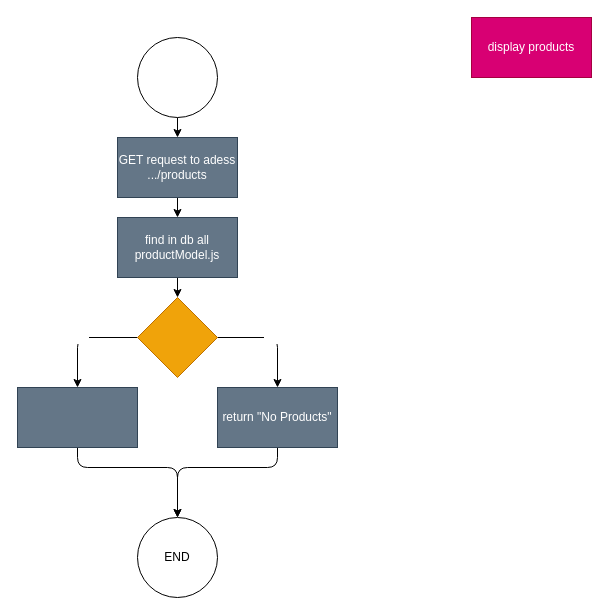
The diagram is 609 pixels wide and 615 high, and some of its shapes have lost their labels. The shapes that lost their labels are listed below. From the top down, each one's centre as x and y in pixels, then its label:
At pixel 177 77: "START".
At pixel 177 337: "null".
At pixel 77 417: "return their".
